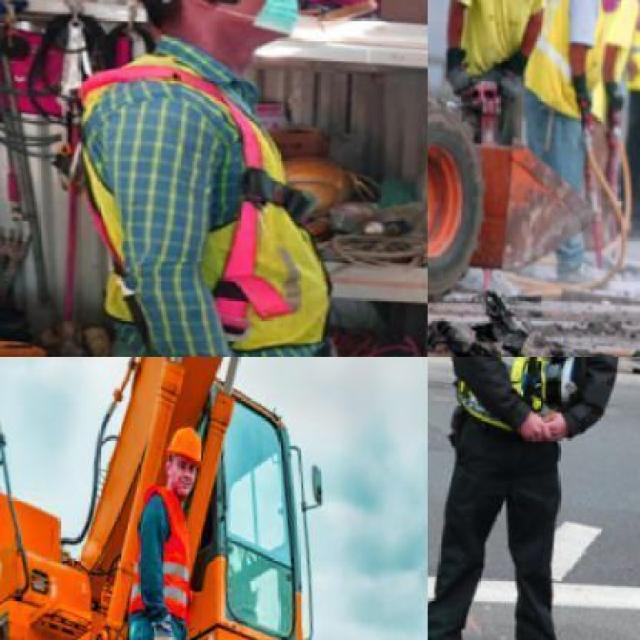Vest: (29, 38, 369, 356), (457, 357, 595, 448), (515, 0, 616, 118), (122, 486, 203, 623), (614, 0, 638, 103)
